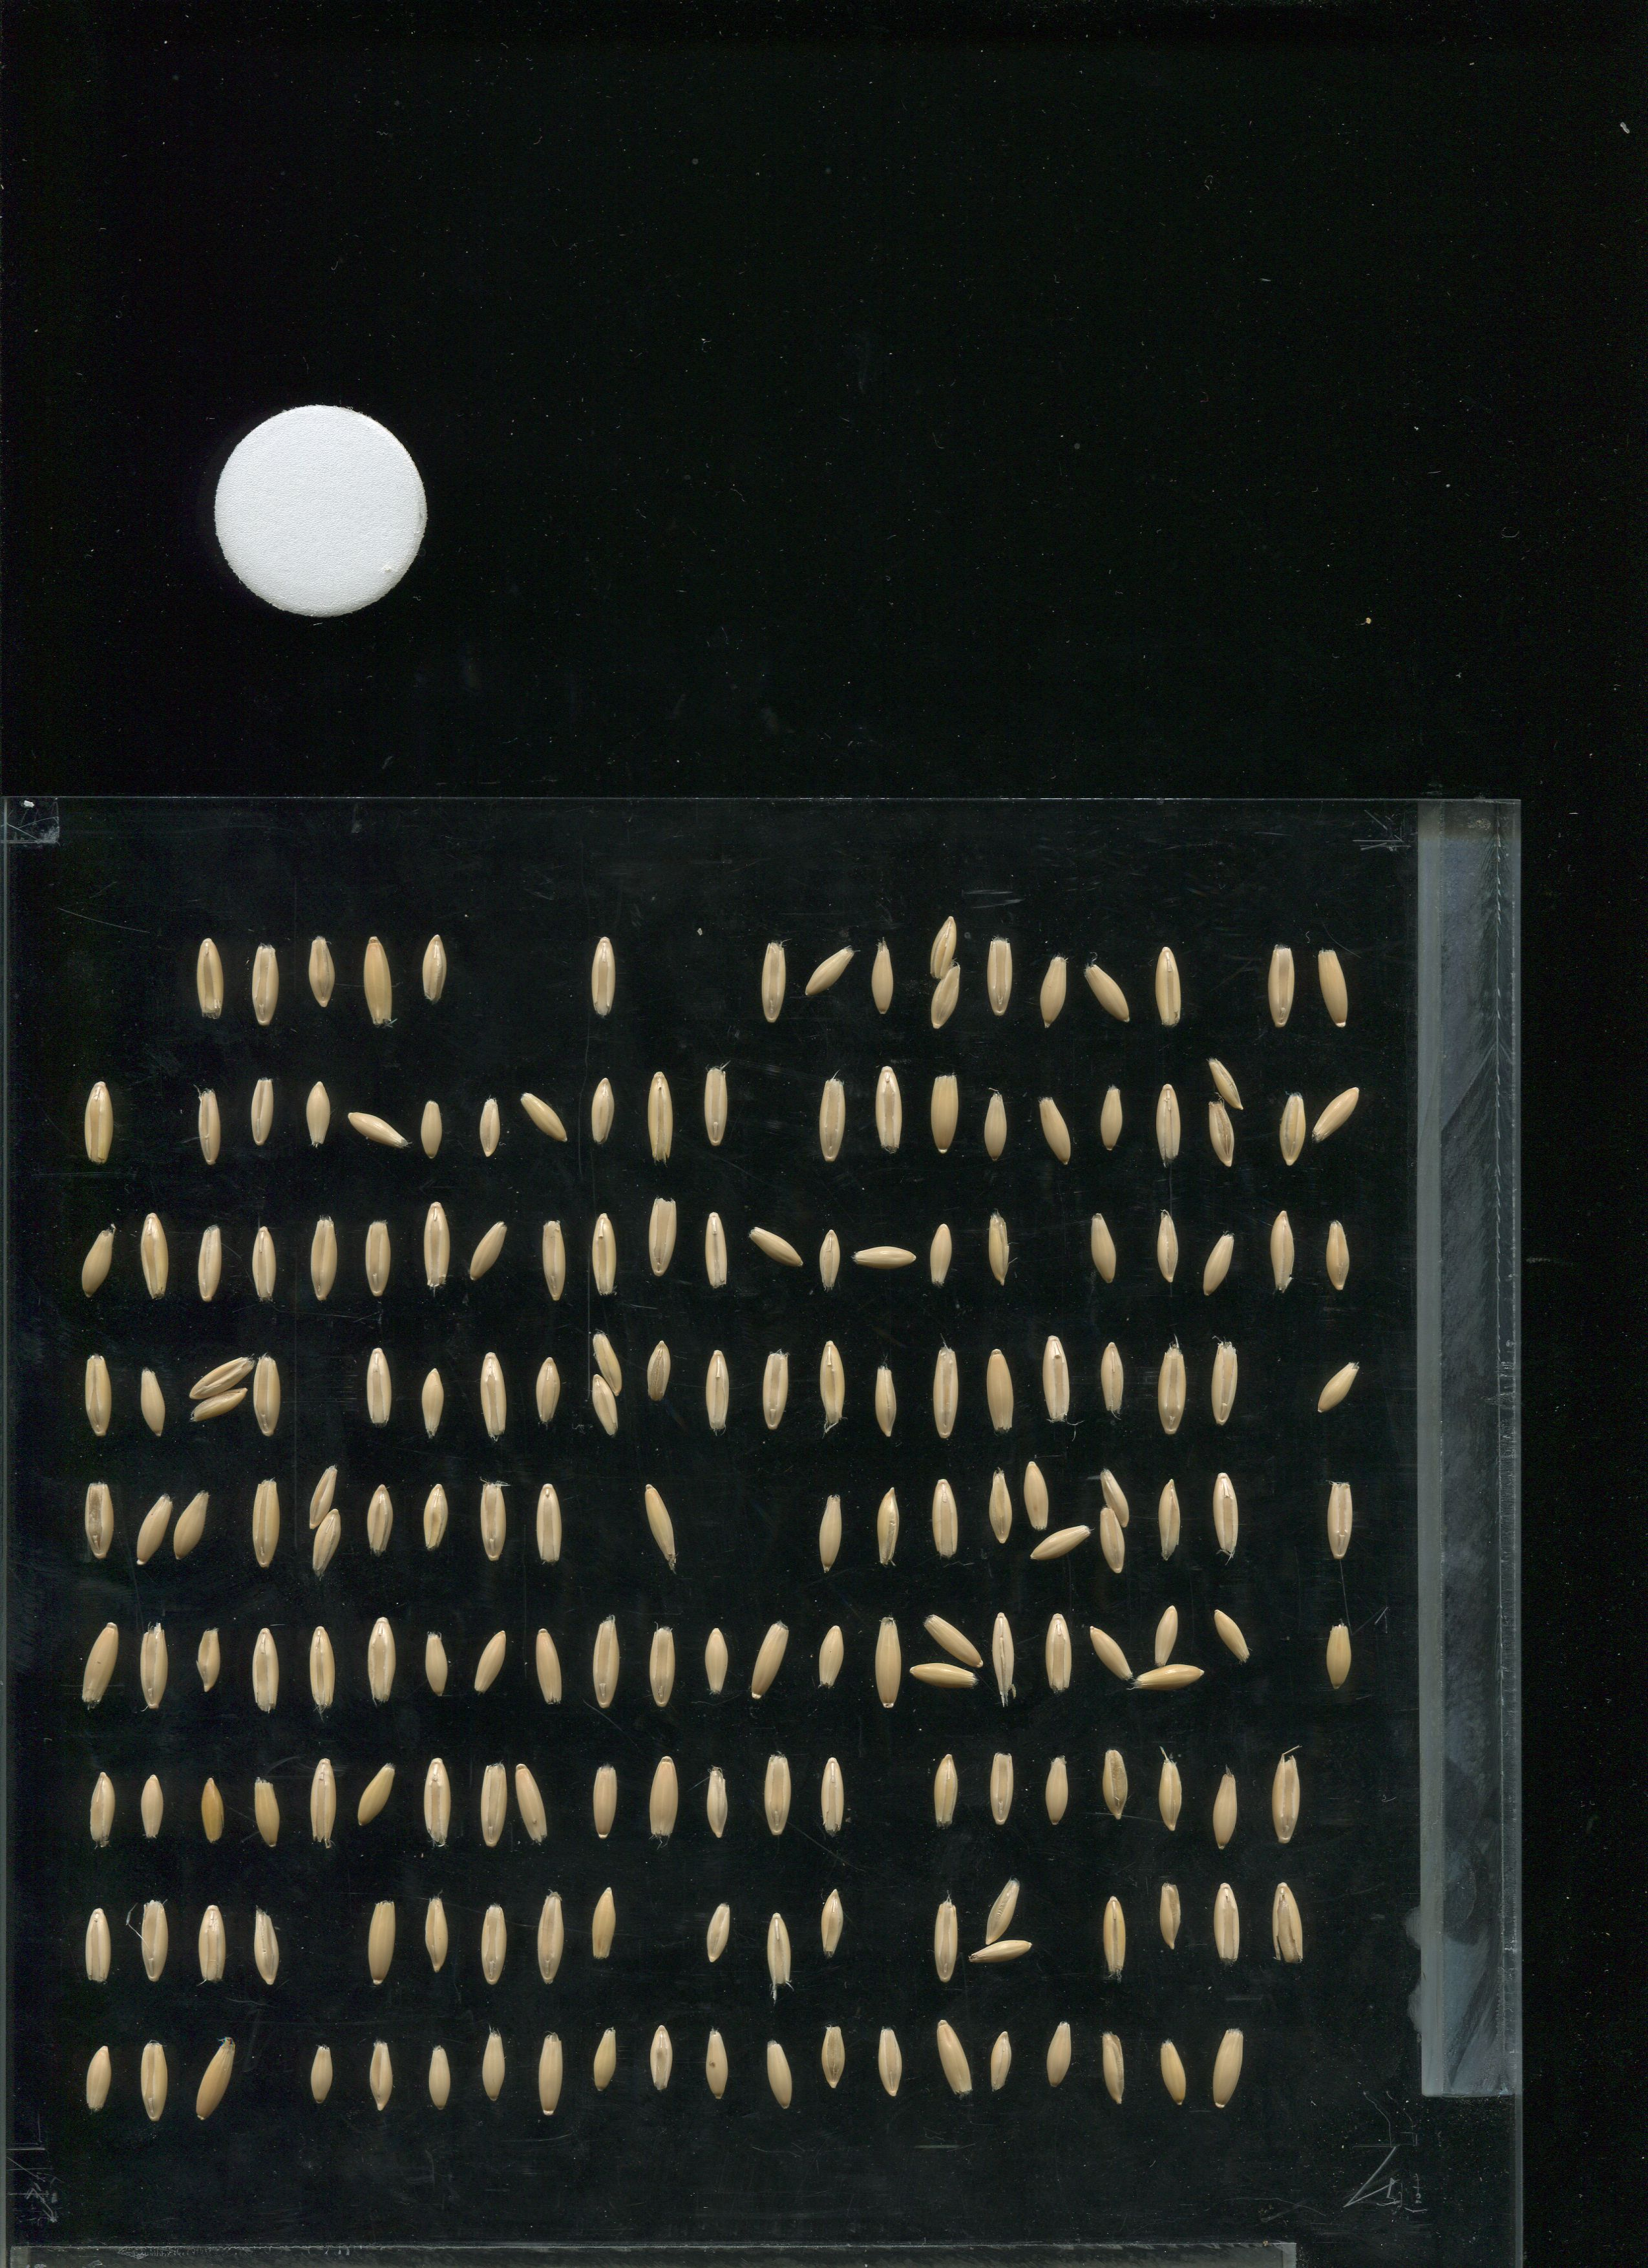NakedGrain: (301, 924, 343, 1016), (583, 930, 625, 1021), (356, 1213, 398, 1305), (190, 1217, 232, 1308), (246, 1215, 287, 1308), (190, 932, 231, 1023), (245, 939, 285, 1030), (414, 921, 454, 1013), (301, 1213, 342, 1305), (1201, 1051, 1250, 1118), (583, 1365, 622, 1446), (1199, 1097, 1238, 1175), (926, 956, 965, 1034), (306, 1504, 343, 1585), (923, 910, 961, 983), (817, 1076, 847, 1167), (416, 1088, 447, 1175), (641, 1328, 673, 1414), (532, 1349, 563, 1435), (703, 1893, 734, 1979), (701, 1761, 732, 1847), (363, 1477, 394, 1564), (85, 2037, 116, 2124), (363, 2034, 394, 2120), (646, 2014, 678, 2101), (306, 2032, 338, 2118), (588, 1067, 620, 1153), (1268, 1208, 1299, 1294), (1151, 1201, 1183, 1287), (1099, 1893, 1130, 1979), (417, 1891, 449, 1977), (586, 1328, 625, 1398), (192, 1083, 224, 1167), (246, 1071, 278, 1155), (474, 1085, 505, 1169), (982, 1208, 1014, 1292), (1099, 1743, 1130, 1828), (1155, 1877, 1187, 1962), (192, 1618, 224, 1703), (421, 1476, 452, 1560), (815, 1882, 847, 1967), (1322, 1213, 1354, 1298), (419, 1625, 451, 1710), (424, 2034, 456, 2118), (477, 2023, 509, 2108), (817, 2020, 849, 2104), (873, 2018, 905, 2102), (986, 2020, 1018, 2104), (1097, 2023, 1129, 2108), (248, 1904, 280, 1988), (1155, 1750, 1187, 1835), (1151, 1081, 1183, 1166), (1278, 1085, 1310, 1169), (416, 1363, 447, 1447), (812, 1213, 843, 1298), (703, 1206, 734, 1291), (305, 1462, 338, 1535)
WholeGrain: (931, 2011, 979, 2104), (77, 1613, 121, 1713), (919, 1609, 990, 1669), (1151, 1465, 1188, 1576), (813, 1740, 850, 1851), (1081, 958, 1137, 1030), (361, 928, 398, 1037), (1150, 928, 1187, 1037), (1039, 932, 1076, 1041), (924, 1055, 961, 1164), (79, 1069, 116, 1178), (136, 1203, 173, 1312), (417, 1196, 454, 1305), (533, 1203, 570, 1312), (81, 1342, 118, 1451), (136, 1344, 173, 1453), (248, 1335, 285, 1444), (474, 1338, 511, 1447), (757, 1335, 794, 1444), (868, 1342, 905, 1451), (928, 1333, 965, 1442), (1039, 1324, 1076, 1433), (1153, 1329, 1190, 1439), (530, 1467, 567, 1576), (808, 1474, 845, 1583), (926, 1467, 963, 1576), (1208, 1458, 1245, 1567), (136, 1608, 173, 1717), (246, 1615, 283, 1724), (305, 1615, 342, 1724), (588, 1606, 625, 1715), (528, 1609, 565, 1719), (699, 1611, 736, 1720), (870, 1604, 907, 1713), (1321, 1601, 1357, 1710), (1208, 1756, 1245, 1865), (928, 1734, 965, 1844), (644, 1745, 681, 1854), (586, 1747, 623, 1856), (475, 1745, 512, 1854), (419, 1745, 456, 1854), (303, 1743, 340, 1852), (79, 1891, 116, 2000), (134, 1888, 171, 1997), (192, 1891, 229, 2000), (364, 1889, 401, 1999), (532, 1884, 569, 1993), (585, 1877, 622, 1986), (762, 1898, 799, 2007), (928, 1886, 965, 1995), (1211, 1874, 1248, 1983), (1210, 2011, 1247, 2120), (1153, 2013, 1190, 2122), (761, 2018, 798, 2127), (697, 2011, 734, 2120), (530, 2020, 567, 2129), (137, 2025, 174, 2134), (74, 1220, 121, 1305), (350, 1757, 401, 1835), (748, 1613, 791, 1706), (194, 2030, 236, 2124), (757, 923, 792, 1032), (644, 1062, 680, 1171), (701, 1055, 736, 1164), (872, 1053, 907, 1162), (1264, 932, 1299, 1041), (1317, 932, 1352, 1041), (982, 924, 1018, 1034), (586, 1194, 622, 1303), (646, 1180, 681, 1289), (363, 1329, 398, 1439), (701, 1340, 736, 1449), (817, 1329, 852, 1439), (981, 1333, 1016, 1442), (1206, 1328, 1241, 1437), (248, 1469, 283, 1578), (81, 1463, 116, 1572), (475, 1467, 511, 1576), (868, 1470, 903, 1580), (1322, 1462, 1357, 1571), (363, 1608, 398, 1717), (644, 1609, 680, 1719), (986, 1604, 1021, 1713), (1039, 1599, 1074, 1708), (1269, 1742, 1305, 1851), (1039, 1738, 1074, 1847), (984, 1731, 1019, 1840), (761, 1740, 796, 1849), (512, 1749, 548, 1858), (475, 1891, 511, 2000), (1268, 1877, 1303, 1986), (1044, 2000, 1079, 2110), (586, 2009, 622, 2118), (641, 1476, 680, 1572), (801, 940, 861, 1002), (979, 1872, 1026, 1949), (741, 1219, 808, 1273), (1034, 1090, 1078, 1171), (1312, 1354, 1366, 1419), (1085, 1622, 1139, 1687), (132, 1490, 176, 1569), (468, 1620, 512, 1699), (518, 1088, 576, 1148), (1306, 1083, 1363, 1145), (467, 1211, 511, 1289), (187, 1354, 255, 1403), (345, 1104, 412, 1153), (171, 1483, 211, 1564), (1210, 1602, 1257, 1669), (1086, 1208, 1125, 1289), (981, 1460, 1014, 1553), (185, 1382, 254, 1426), (1199, 1227, 1240, 1300), (1023, 1521, 1095, 1562), (1095, 1338, 1130, 1421), (250, 1771, 285, 1854), (194, 1768, 229, 1851), (136, 1768, 171, 1851), (85, 1768, 120, 1851), (864, 935, 898, 1021), (1093, 1463, 1134, 1534), (301, 1069, 333, 1157), (850, 1238, 919, 1278), (979, 1081, 1011, 1167), (1093, 1078, 1125, 1164), (815, 1618, 852, 1692), (909, 1660, 986, 1696), (923, 1219, 958, 1294), (970, 1937, 1041, 1970), (1148, 1599, 1180, 1673), (1129, 1662, 1206, 1692), (1023, 1456, 1049, 1534), (1097, 1502, 1125, 1574)
